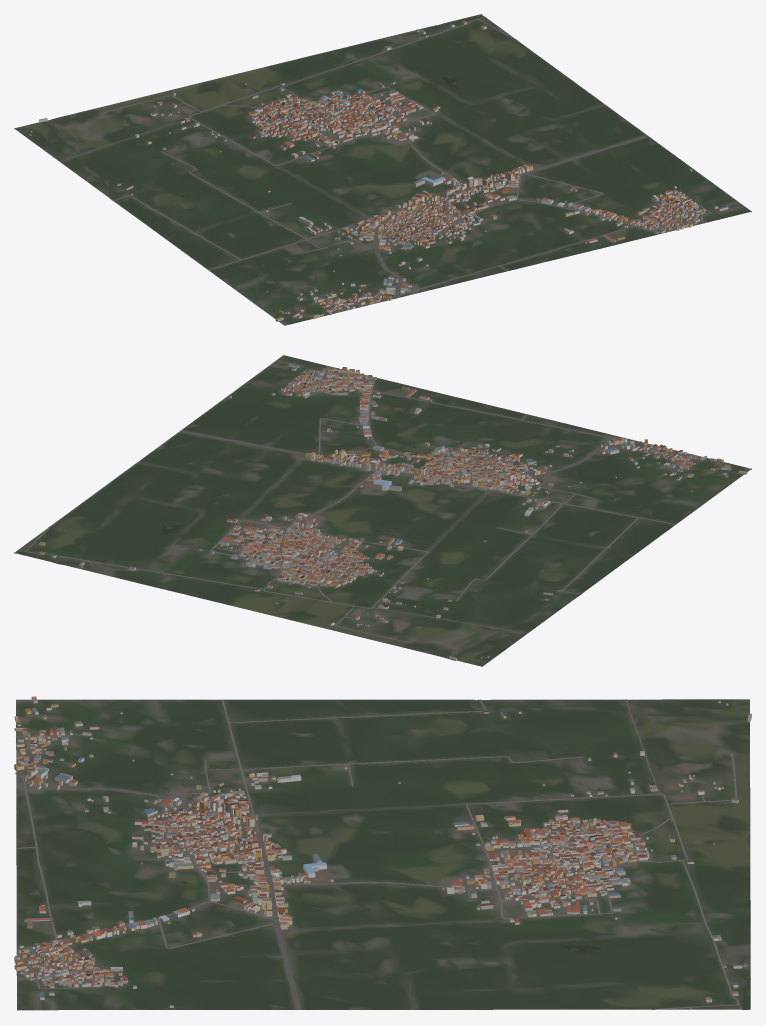
The picture shows the model from 3 angles, top to bottom: view 1: azimuth 30°, elevation 25°; view 2: azimuth 150°, elevation 25°; view 3: azimuth 270°, elevation 25°; orthographic projection. The views are drawn at different scales.
Parts seen in each view (by area): view 1: ground, buildings, roads; view 2: ground, buildings, roads; view 3: ground, buildings, roads.
Part boxes in pixels (x1,y1,x2,y2): ground: (14,14,751,325); buildings: (29,21,728,321); roads: (59,16,711,312); ground: (14,355,751,666); buildings: (39,363,747,660); roads: (17,366,696,642); ground: (16,699,750,1010); buildings: (14,696,751,1007); roads: (15,699,741,1009).
Bounding box in the file's own units: 1407 × 29.39 × 1410.
